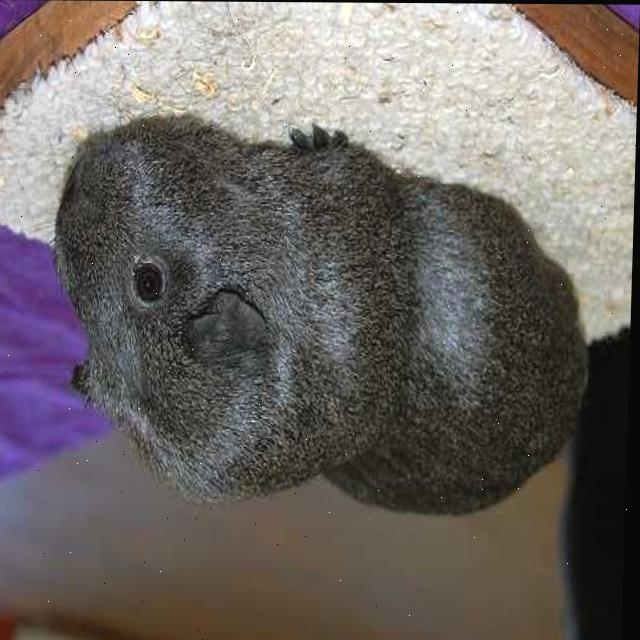guinea pig: (47, 115, 590, 522)
